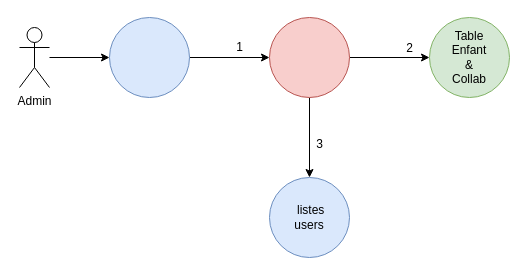
This 527x275 diagram has some shape labels left out. Each missing label, with the centre of its shape:
Profil Salle: the point at 149,57
Voir listes users: the point at 309,57
